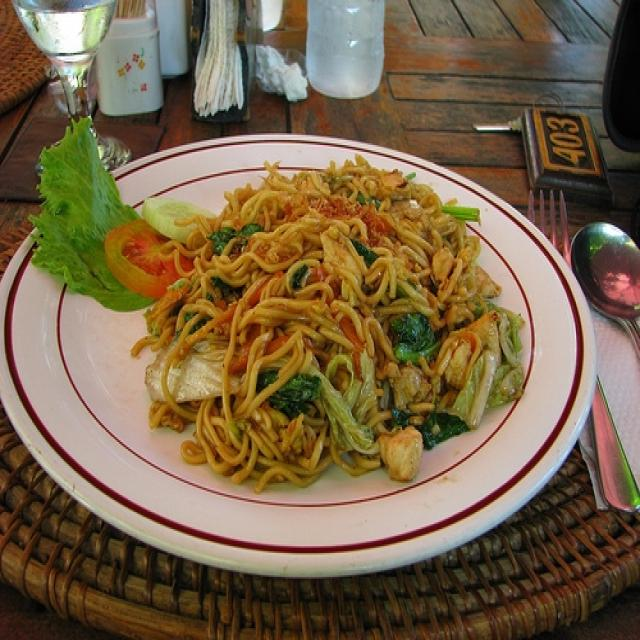面条主食: (22, 101, 591, 578)
